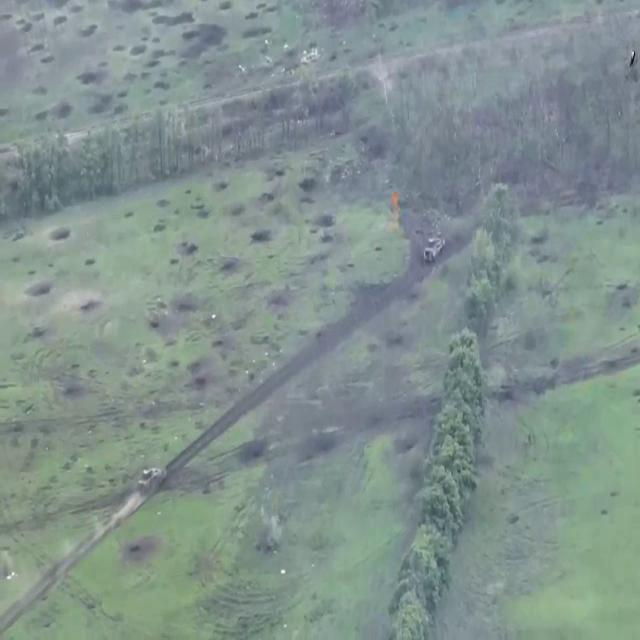APC: (137, 463, 169, 501), (423, 232, 449, 271)
